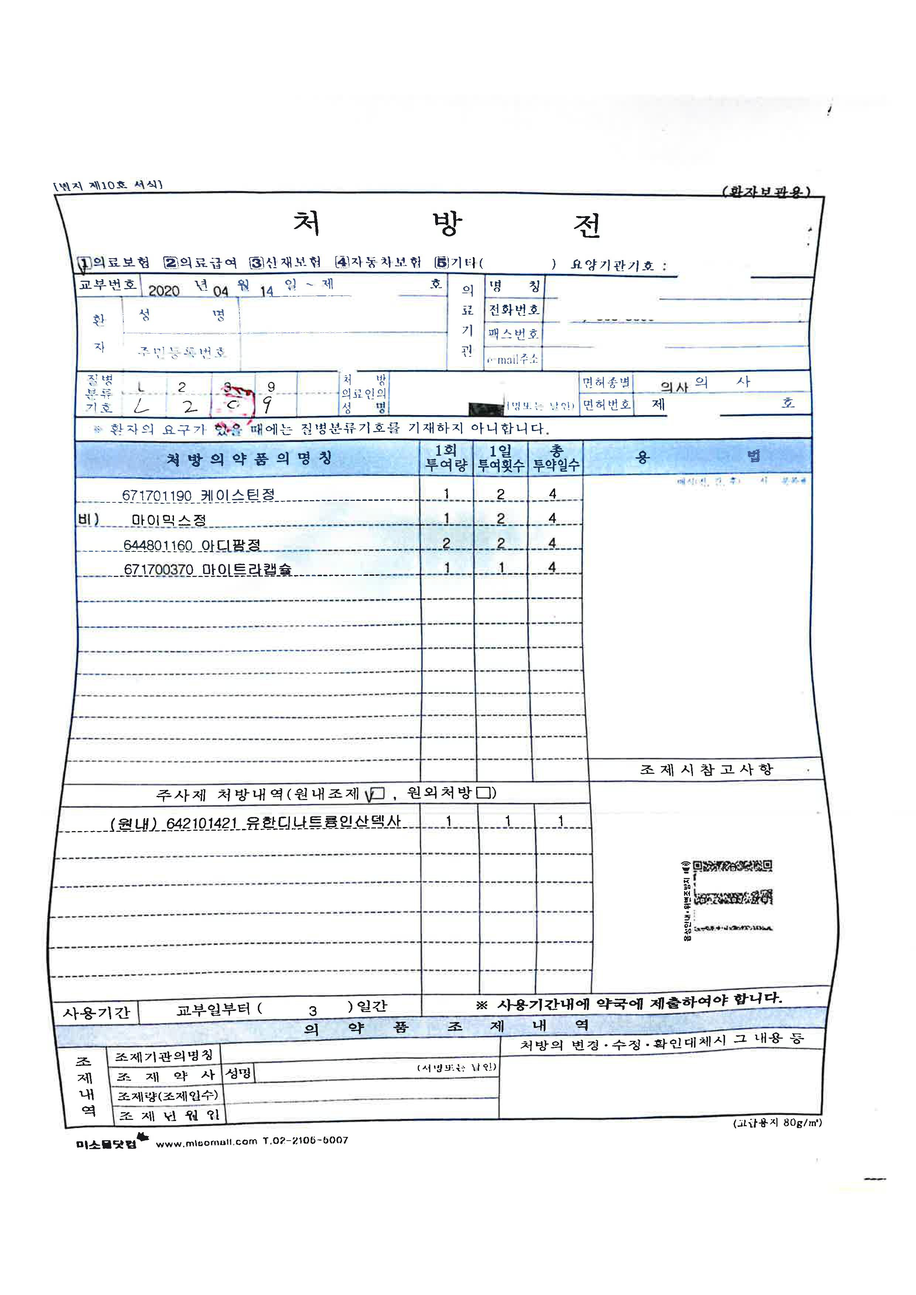row: (54, 191, 818, 280), (594, 761, 824, 979), (584, 442, 807, 658), (70, 273, 447, 375), (448, 270, 811, 375), (63, 1041, 496, 1124), (513, 1032, 811, 1111), (52, 993, 800, 1019), (74, 441, 582, 479), (75, 419, 811, 441), (74, 501, 582, 529), (73, 476, 581, 503), (74, 370, 338, 420), (75, 551, 581, 577), (60, 808, 590, 831), (74, 528, 580, 552), (62, 783, 589, 805), (339, 372, 580, 419), (579, 372, 814, 418), (301, 1017, 598, 1040)
